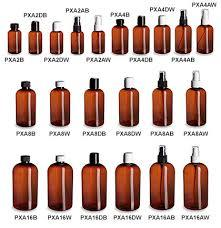Container for household chemicals: (4, 2, 221, 228)
